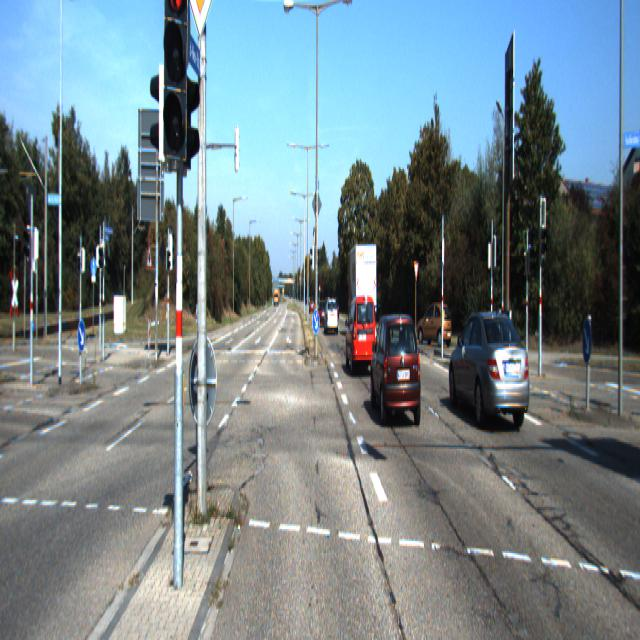Car: (448, 307, 532, 435), (371, 311, 424, 431), (346, 241, 376, 338), (345, 292, 377, 380), (418, 298, 452, 346), (324, 298, 338, 335)
